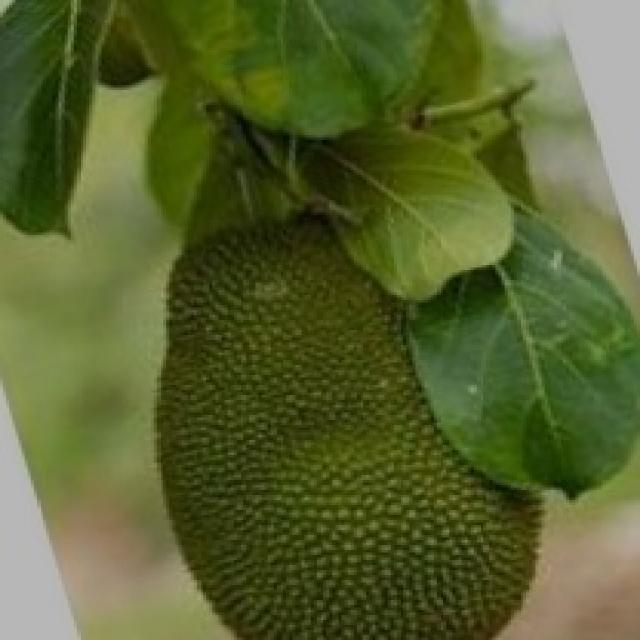Fruit: (108, 180, 532, 635)
